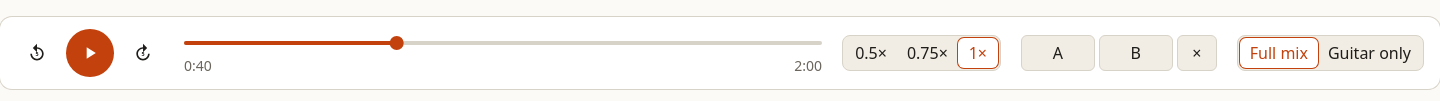
Test: Transport › shows the loop's times once set, and clears them
Click the button named "Set loop start": (1058, 53) [1021,35,1095,71]
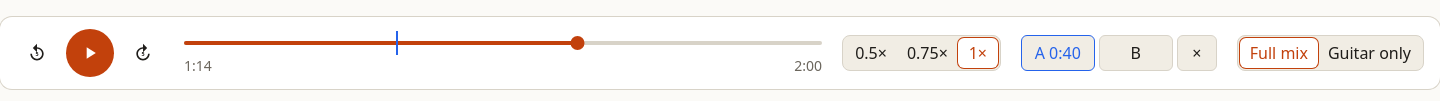
Click the button named "Set loop end": (1136, 53) [1099,35,1173,71]
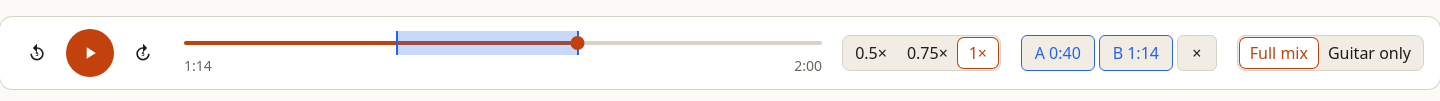
Expected: the button named "Set loop start (0:40)" reads "A 0:40", [1021,35,1095,71]
Expected: the button named "Set loop end (1:14)" reads "B 1:14", [1099,35,1173,71]
Click the button named "Clear loop": (1197, 53) [1177,35,1217,71]
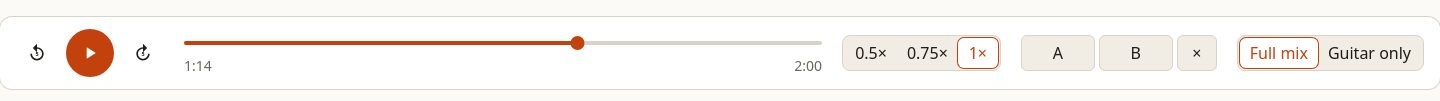
Expected: the button named "Set loop start" reads "A", [1021,35,1095,71]
Expected: the button named "Set loop end" reads "B", [1099,35,1173,71]
